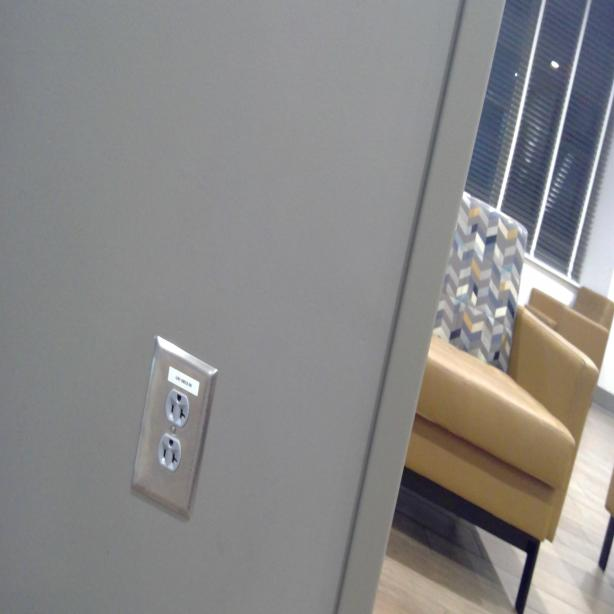typeb: (164, 389, 189, 426), (158, 436, 180, 472)
